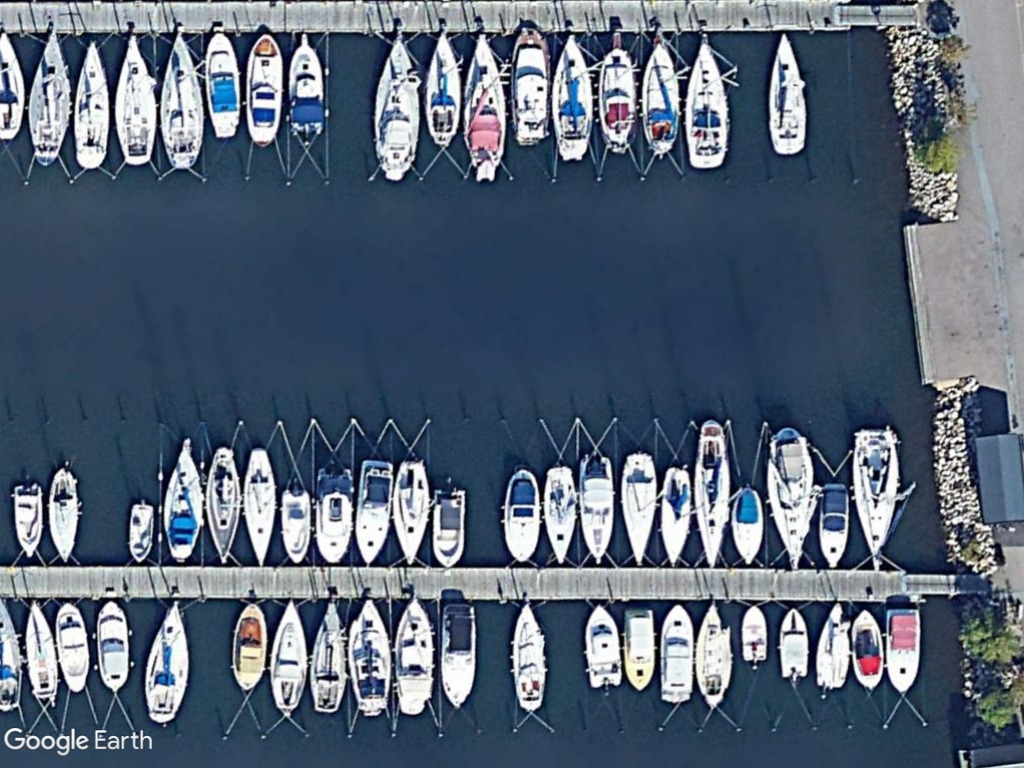boat: (366, 30, 423, 184), (760, 423, 817, 571), (847, 422, 901, 569), (140, 593, 196, 730), (24, 28, 76, 171), (460, 31, 507, 182), (156, 30, 205, 173), (680, 35, 731, 172), (109, 32, 160, 169), (759, 31, 812, 158), (692, 416, 734, 569), (503, 24, 553, 149), (548, 33, 595, 165), (69, 38, 114, 174), (635, 36, 684, 160), (389, 594, 438, 718), (346, 595, 394, 719), (160, 436, 206, 563), (200, 442, 245, 567), (305, 596, 350, 719), (418, 28, 463, 149), (266, 598, 312, 716), (593, 45, 641, 158), (349, 454, 397, 566), (507, 599, 551, 718), (616, 450, 660, 568), (388, 458, 434, 569), (574, 450, 618, 566), (691, 599, 736, 712), (241, 30, 283, 148), (240, 445, 280, 567), (283, 34, 329, 140), (436, 602, 480, 712), (202, 32, 244, 142), (538, 462, 581, 569), (310, 463, 354, 566), (653, 600, 696, 705), (881, 602, 926, 702), (19, 596, 62, 700), (498, 465, 542, 566), (580, 600, 625, 692), (809, 597, 852, 693), (227, 597, 269, 693), (92, 595, 133, 693), (43, 464, 82, 567), (655, 462, 692, 567), (53, 599, 93, 694), (618, 603, 659, 695), (771, 602, 816, 684), (847, 604, 887, 693), (8, 479, 49, 564), (726, 483, 766, 568), (816, 480, 852, 569), (429, 486, 466, 569), (277, 485, 314, 568), (123, 497, 157, 569), (736, 601, 770, 668)
